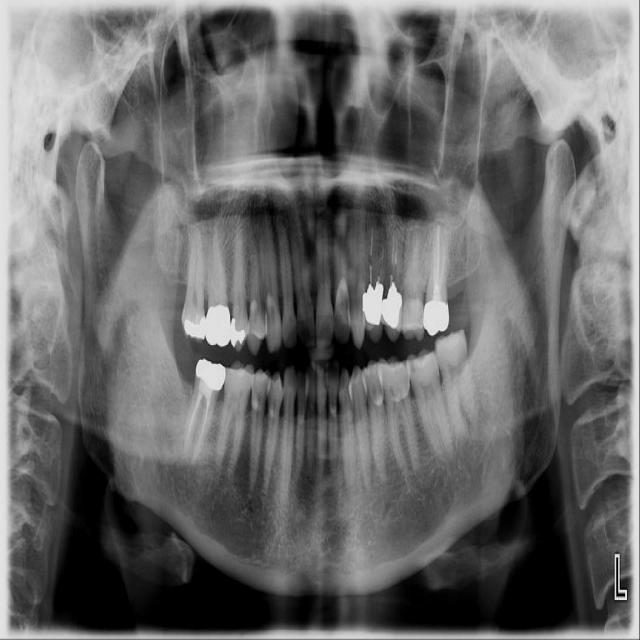Crown: (193, 357, 226, 405), (204, 305, 232, 347), (380, 291, 403, 342), (423, 293, 449, 337), (362, 290, 384, 342)
Filling: (379, 361, 411, 399), (332, 277, 351, 326), (364, 368, 383, 405), (402, 299, 422, 332), (248, 301, 264, 337), (264, 295, 278, 335), (230, 317, 246, 349), (184, 315, 205, 339)
Root Canal Treatment: (194, 403, 212, 456), (187, 397, 198, 450), (391, 228, 398, 279), (438, 242, 444, 288), (433, 226, 437, 290), (369, 230, 372, 278)
